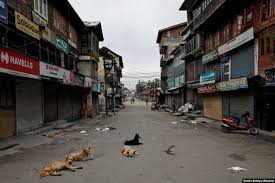dog: (37, 155, 83, 177), (122, 130, 146, 147), (69, 147, 96, 161), (120, 145, 140, 158)
